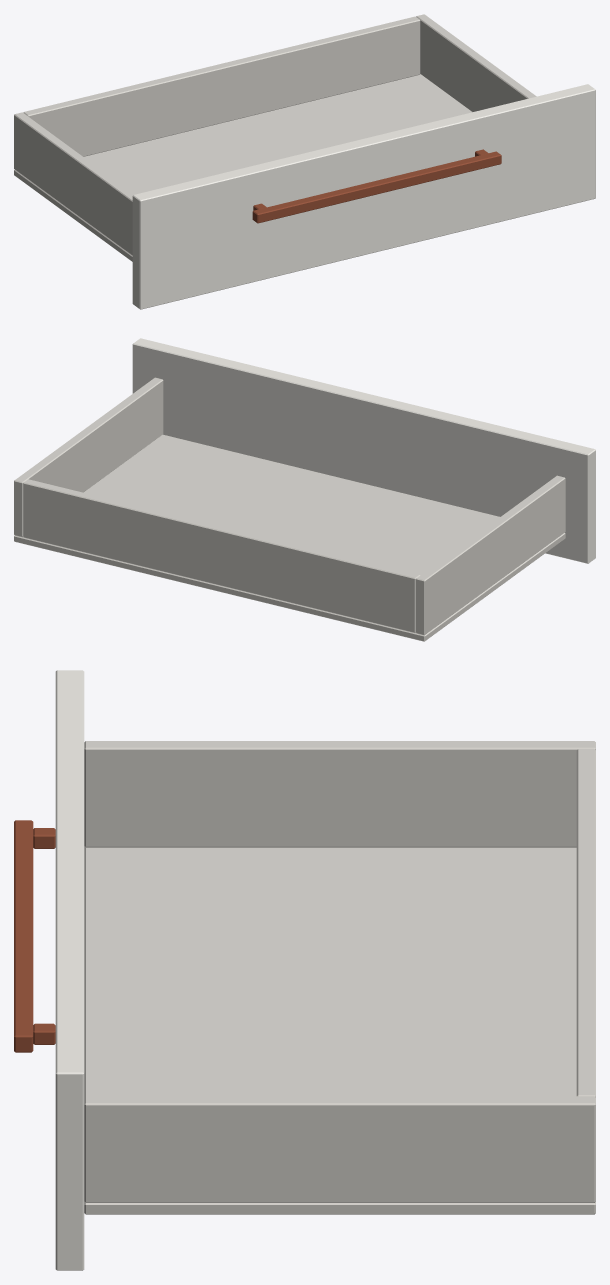
Rendered from base_cabinet_four_drawers_drawer_1.glb.
3 renders of one model, top to bottom at view 1: azimuth 30°, elevation 25°; view 2: azimuth 150°, elevation 25°; view 3: azimuth 270°, elevation 25°, orthographic. The views are drawn at different scales.
Parts seen in each view (by area): view 1: base_cabinet_four_drawers_drawer_1; view 2: base_cabinet_four_drawers_drawer_1; view 3: base_cabinet_four_drawers_drawer_1.
Part boxes in pixels (x1=…): base_cabinet_four_drawers_drawer_1: x1=14, y1=14, x2=595, y2=309; base_cabinet_four_drawers_drawer_1: x1=14, y1=338, x2=595, y2=641; base_cabinet_four_drawers_drawer_1: x1=14, y1=670, x2=595, y2=1270.
Size of the model in its own units: 0.597 by 0.137 by 0.364.
